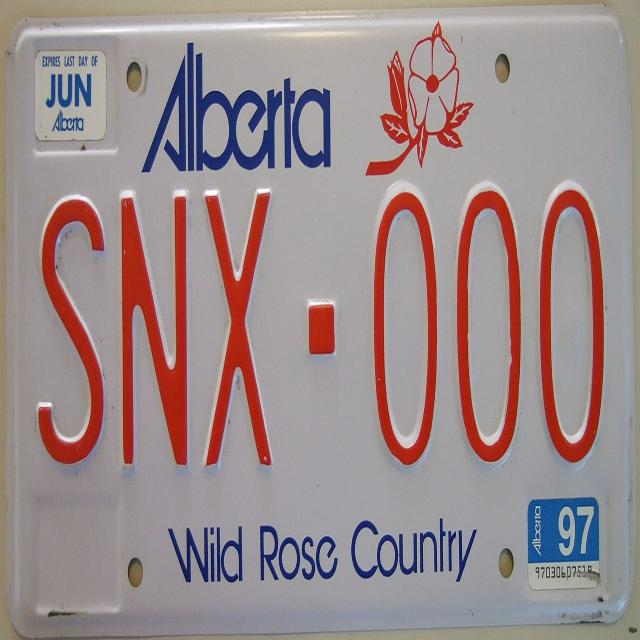placa: (18, 174, 624, 482)
